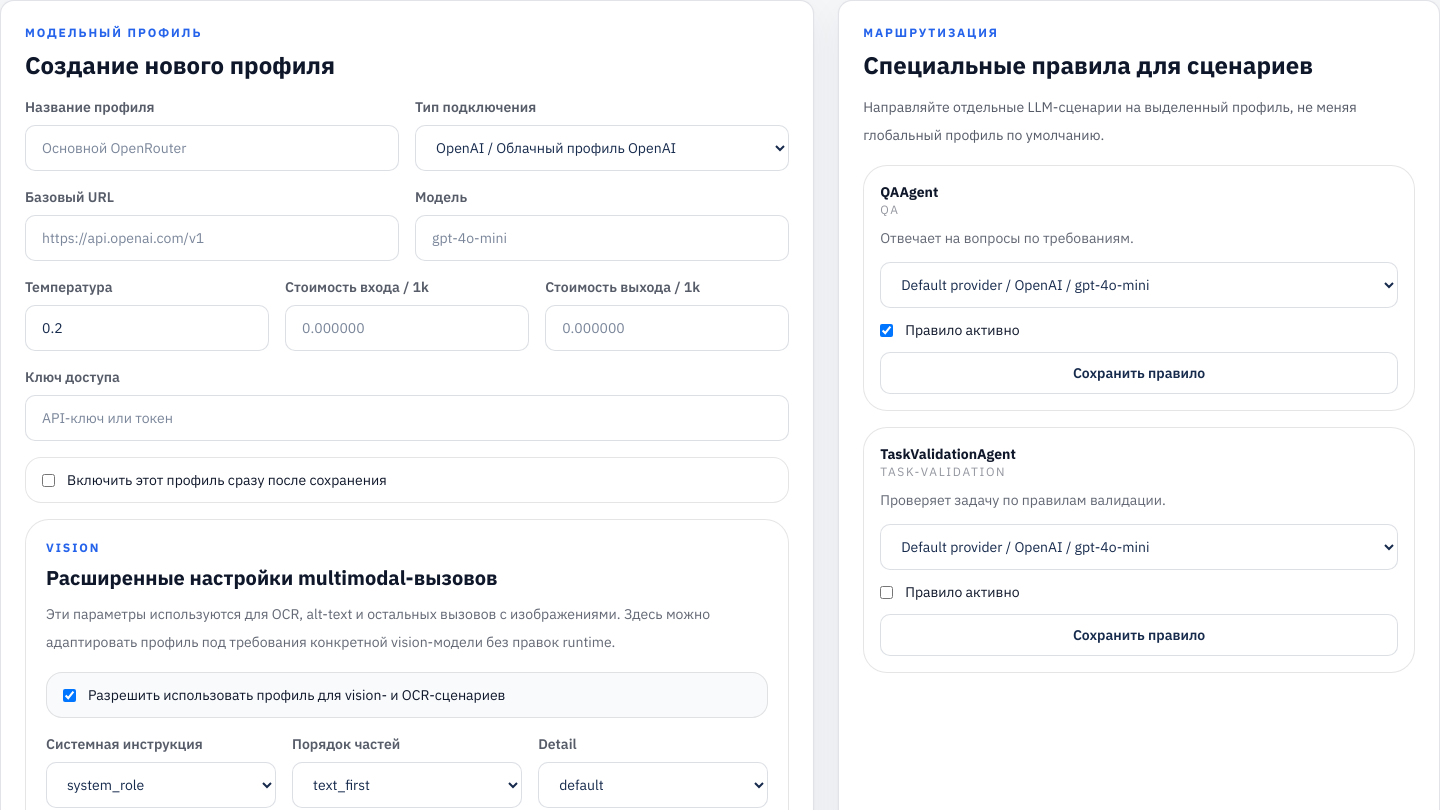
Test case: ProviderSettingsPage › shows GigaChat-specific vision settings in the provider form
Select "GigaChat / Профиль GigaChat" in the dropdown labelled "Тип подключения" at (602, 148), box [415,125,789,171]
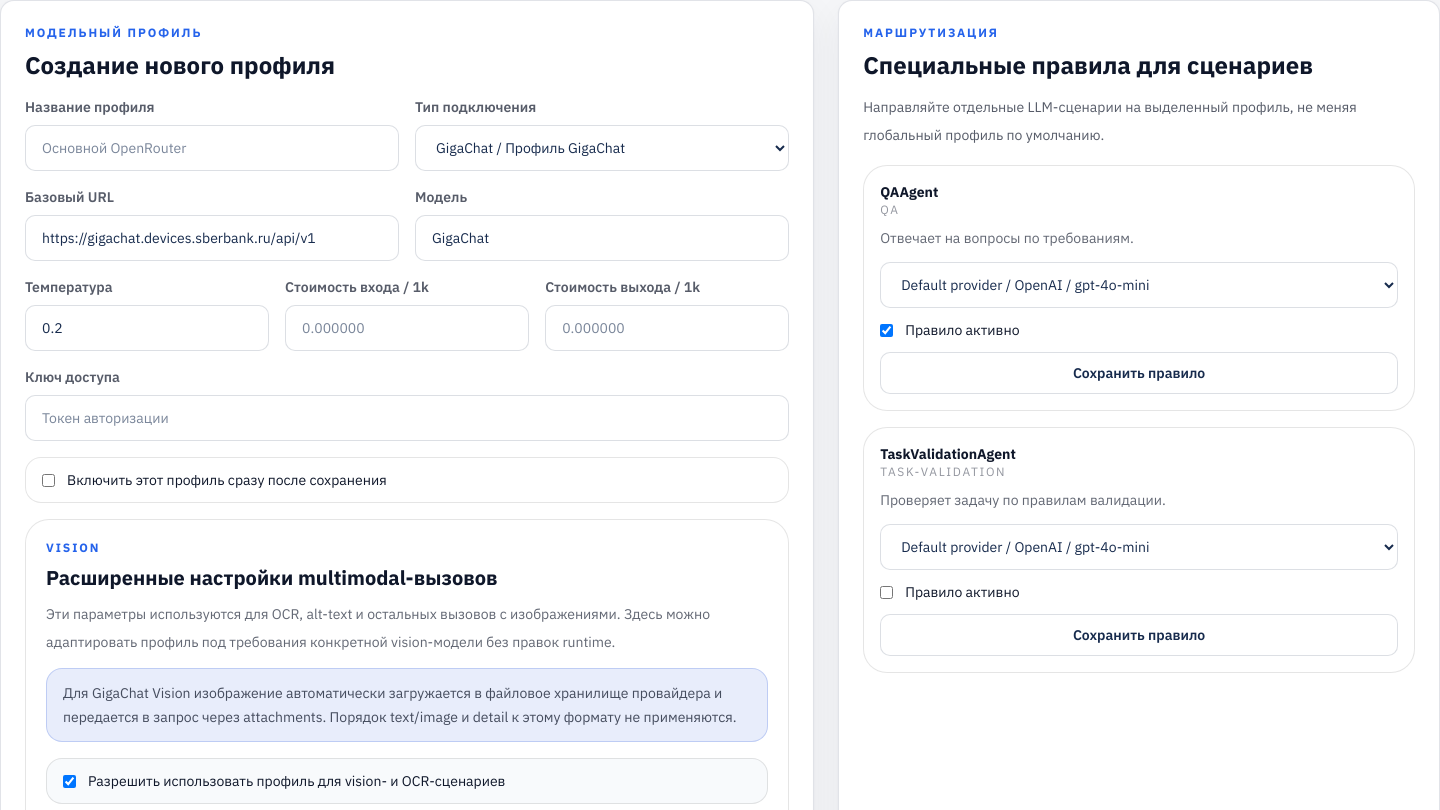
Expected: the field labelled "Detail" is not shown
Now the text "Для GigaChat Vision изображение автоматически загружается" is shown, box [63,684,737,726]
Now the text labelled "Порядок частей" is gone
